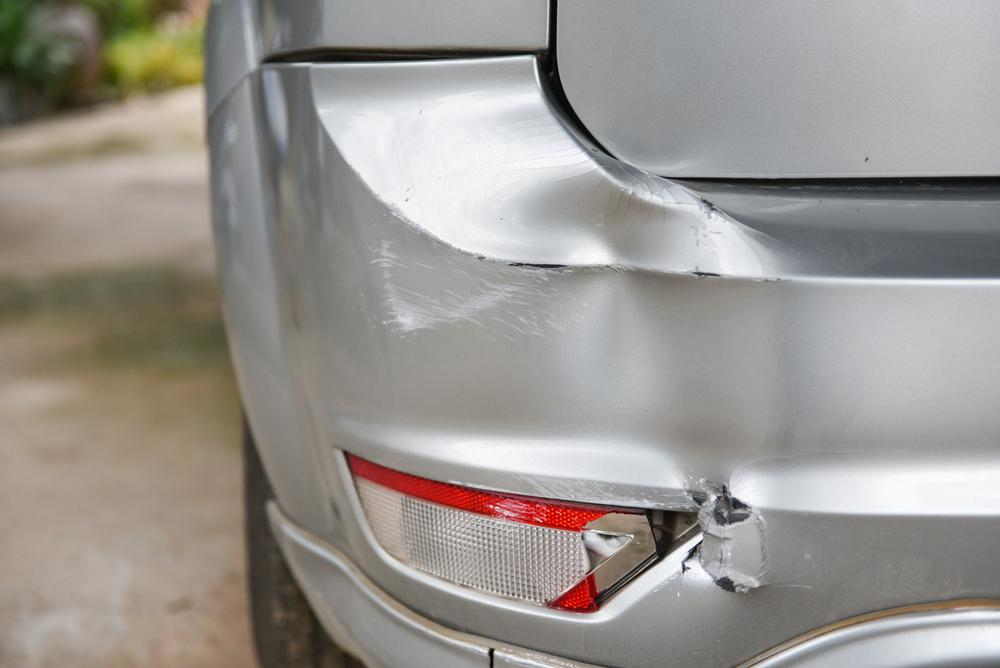dent: (497, 171, 790, 496)
scratch: (368, 198, 558, 345)
